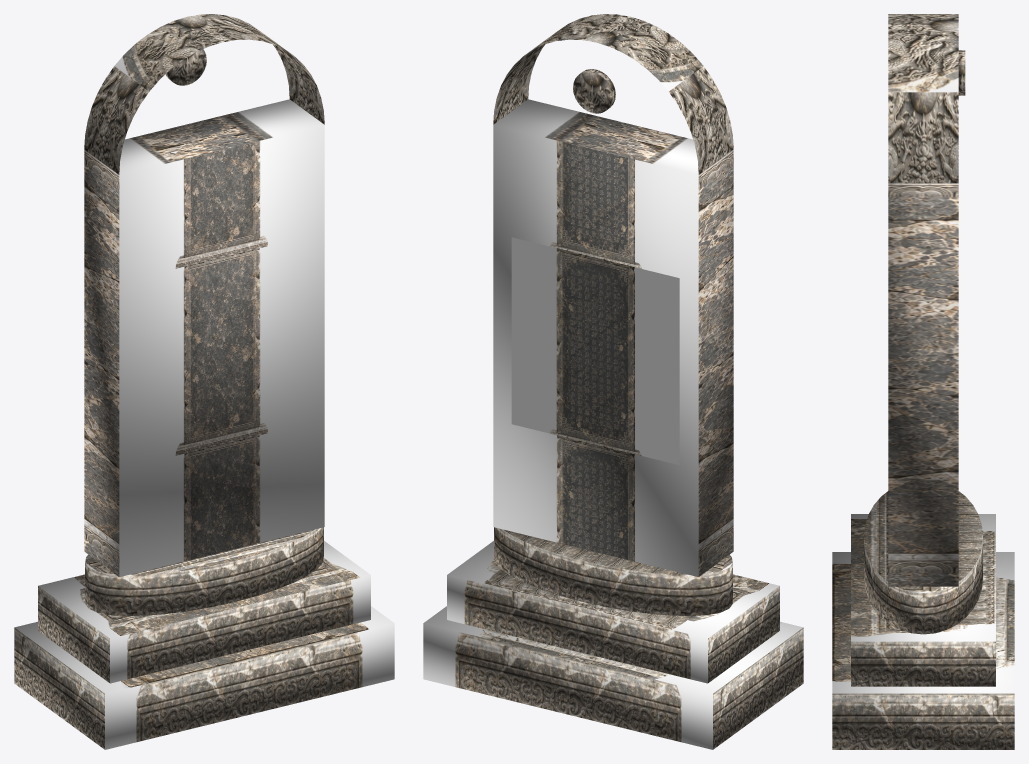
File: stele_v2.glb
3 views of the same model, side by side, from view 1: azimuth 30°, elevation 25°; view 2: azimuth 150°, elevation 25°; view 3: azimuth 270°, elevation 25° (orthographic).
Parts seen in each view (by area): view 1: Stele_Body, Pedestal_Foundation, Pedestal_Waist, Pedestal_LotusTier, Stele_Crown, Crown_PearlRelief; view 2: Stele_Body, Inscription_Panel, Pedestal_Foundation, Pedestal_Waist, Pedestal_LotusTier, Stele_Crown, Crown_PearlRelief; view 3: Stele_Body, Pedestal_Foundation, Pedestal_Waist, Stele_Crown, Pedestal_LotusTier, Crown_PearlRelief.
Part boxes in pixels (bbox=[...]): Stele_Body: bbox=[84, 99, 324, 576]; Pedestal_Foundation: bbox=[14, 606, 394, 749]; Pedestal_Waist: bbox=[38, 541, 370, 683]; Pedestal_LotusTier: bbox=[85, 527, 323, 615]; Stele_Crown: bbox=[84, 14, 324, 174]; Crown_PearlRelief: bbox=[165, 49, 206, 85]; Stele_Body: bbox=[493, 99, 733, 576]; Inscription_Panel: bbox=[511, 237, 679, 464]; Pedestal_Foundation: bbox=[423, 606, 803, 749]; Pedestal_Waist: bbox=[447, 541, 779, 683]; Pedestal_LotusTier: bbox=[494, 527, 732, 615]; Stele_Crown: bbox=[493, 14, 733, 174]; Crown_PearlRelief: bbox=[573, 69, 615, 113]; Stele_Body: bbox=[888, 183, 958, 586]; Pedestal_Foundation: bbox=[832, 552, 1014, 749]; Pedestal_Waist: bbox=[851, 514, 995, 686]; Stele_Crown: bbox=[888, 14, 958, 183]; Pedestal_LotusTier: bbox=[864, 491, 982, 634]; Crown_PearlRelief: bbox=[958, 50, 965, 95].
Bounding box in the file's own units: 1.62 × 3.49 × 0.88.
Materials: 6 (6 with a texture image).
